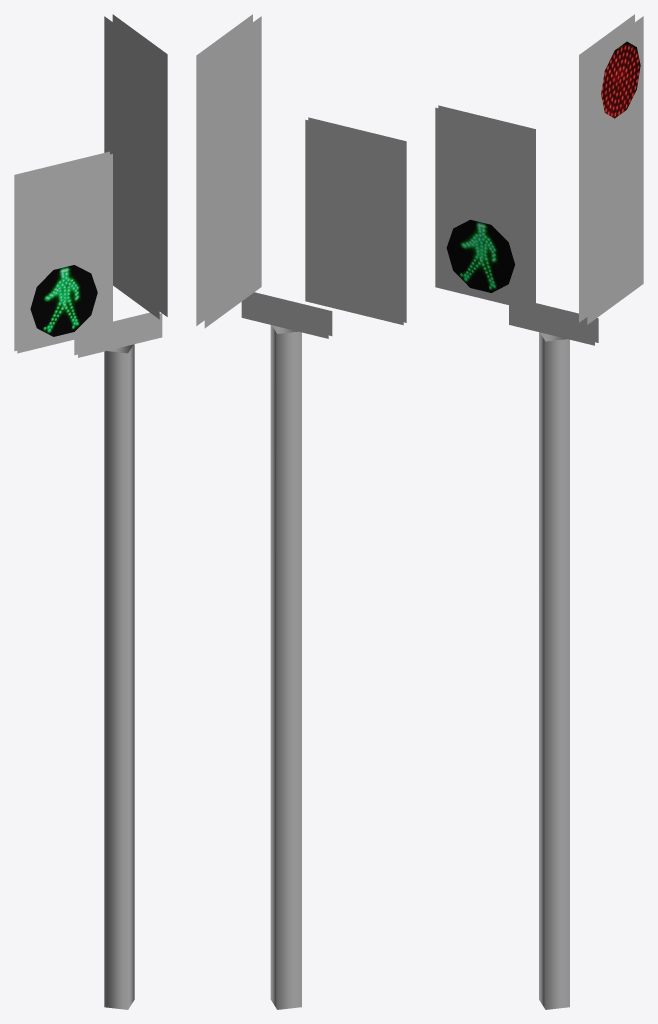
Rendered from prop_trafficlight_LOD2.FBX.
3 views of the same model, side by side, from view 1: azimuth 30°, elevation 25°; view 2: azimuth 150°, elevation 25°; view 3: azimuth 330°, elevation 25° (orthographic). The views are drawn at different scales.
Visible parts, largest first — view 1: prop_trafficlight_LOD02, prop_trafficpede_green_LOD02; view 2: prop_trafficlight_LOD02; view 3: prop_trafficlight_LOD02, prop_trafficpede_green_LOD02, prop_trafficleds_red_LOD03.
Boxes of the visible parts, box(x1,y1,x2,y2) form: prop_trafficlight_LOD02: box(14, 14, 167, 1009); prop_trafficpede_green_LOD02: box(30, 265, 97, 336); prop_trafficlight_LOD02: box(196, 14, 406, 1009); prop_trafficlight_LOD02: box(435, 14, 643, 1009); prop_trafficpede_green_LOD02: box(446, 219, 514, 292); prop_trafficleds_red_LOD03: box(601, 41, 640, 118).
Bounding box in the file's own units: 23.06 × 136 × 14.6.
